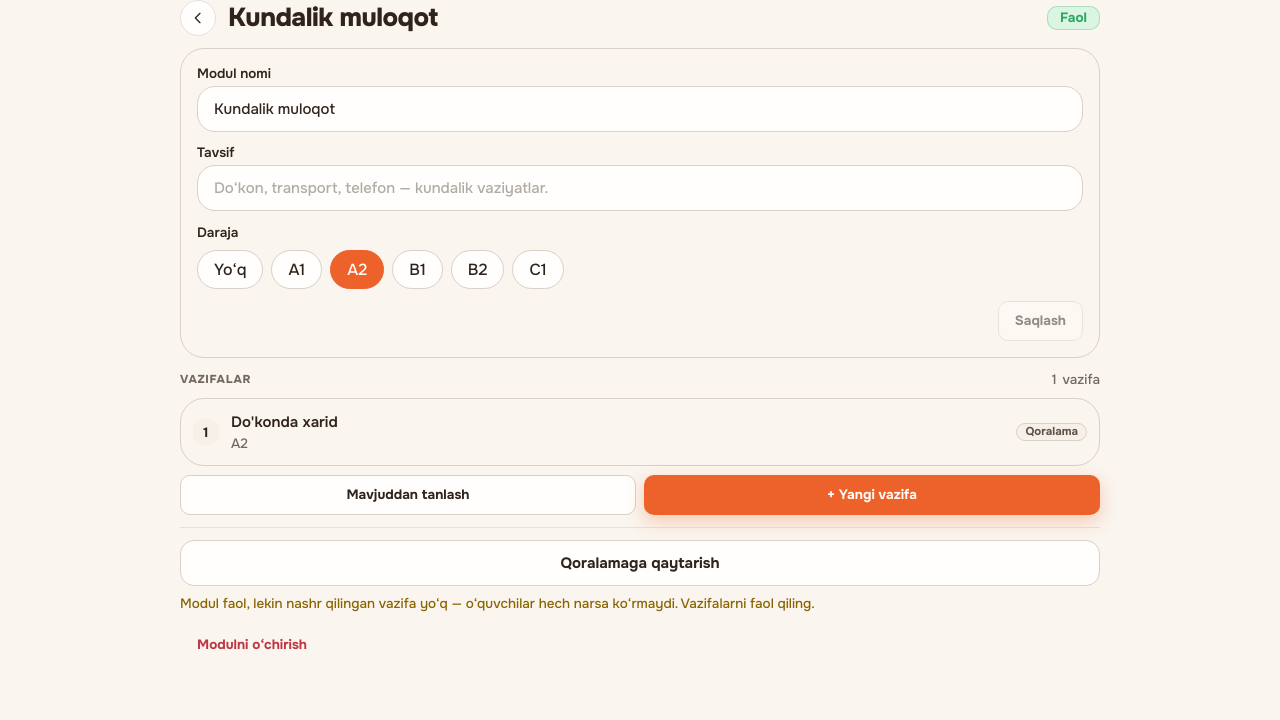
Test: module delete › explains a 409 as a refusal with an alternative, not as 'try again'
Click the button "Modulni o‘chirish". click: (252, 645)
box: [180, 625, 324, 665]
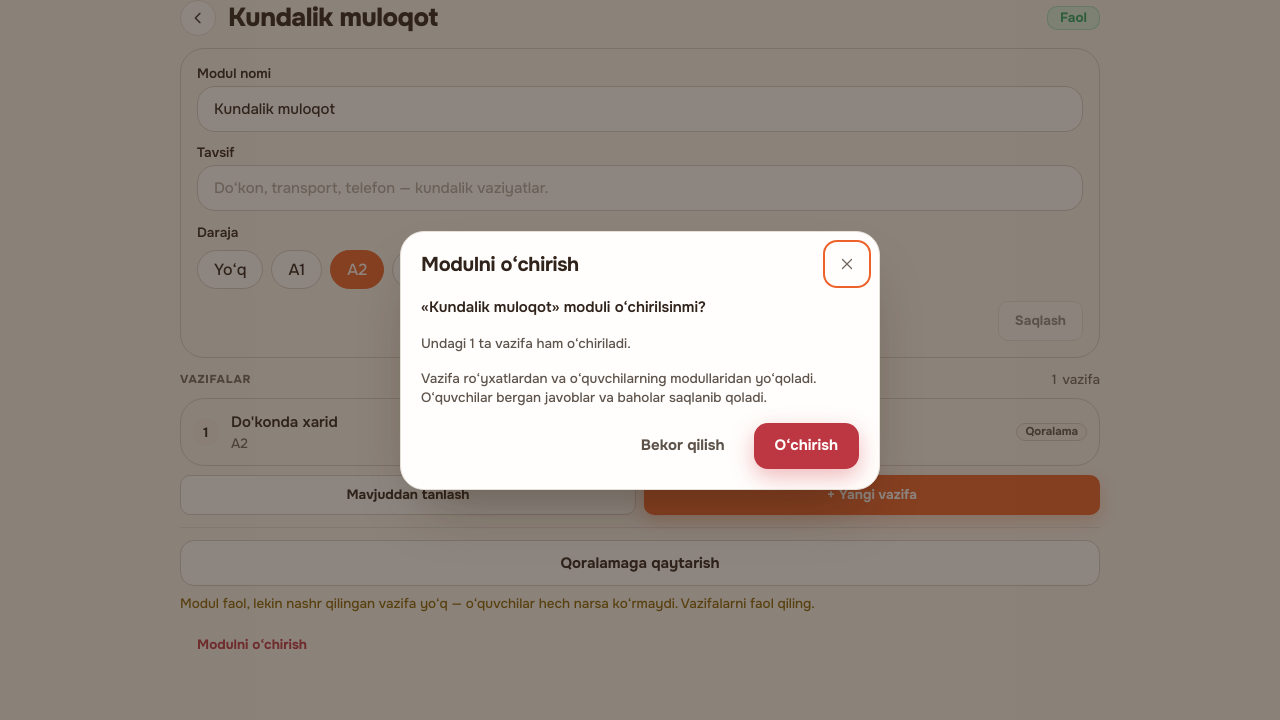
Click the button "O‘chirish". click: (806, 446)
box: [754, 422, 859, 468]
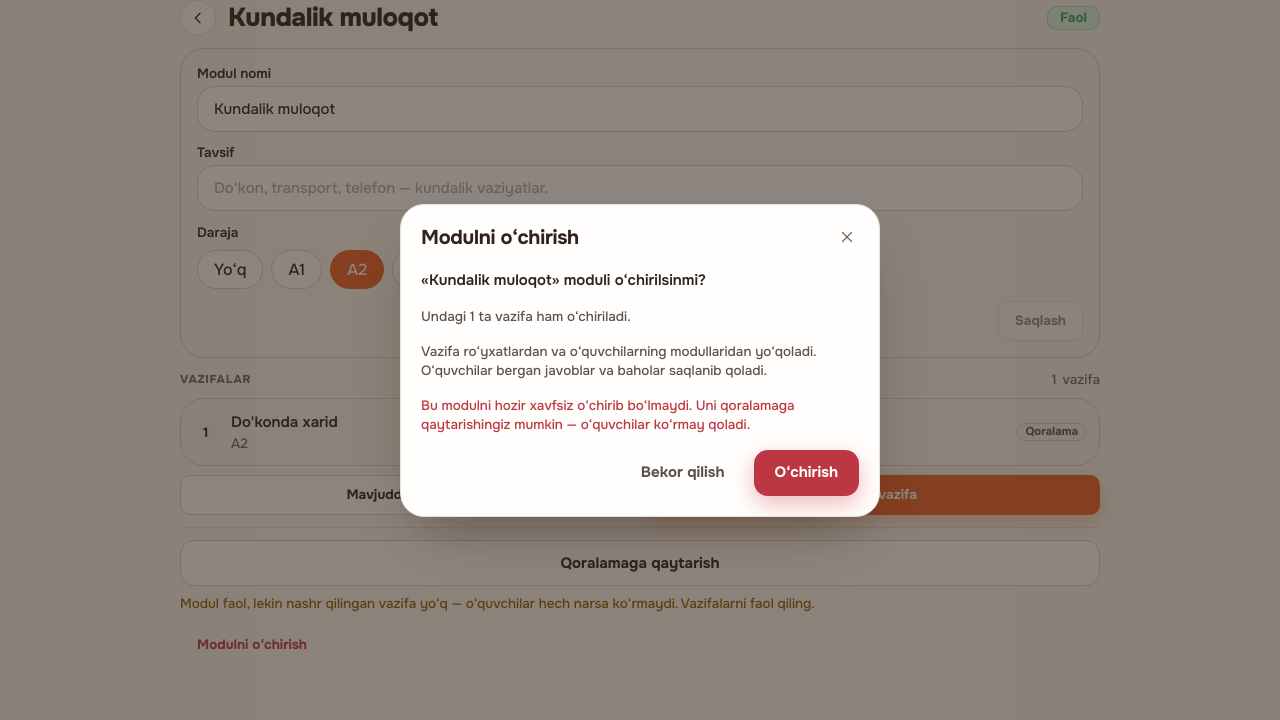
Check: the text "Bu modulni hozir xavfsiz o‘chirib bo‘lmaydi. Uni qoralamaga qaytarishingiz mumkin — o‘quvchilar ko‘rmay qoladi." is shown, box [421, 396, 794, 432]
